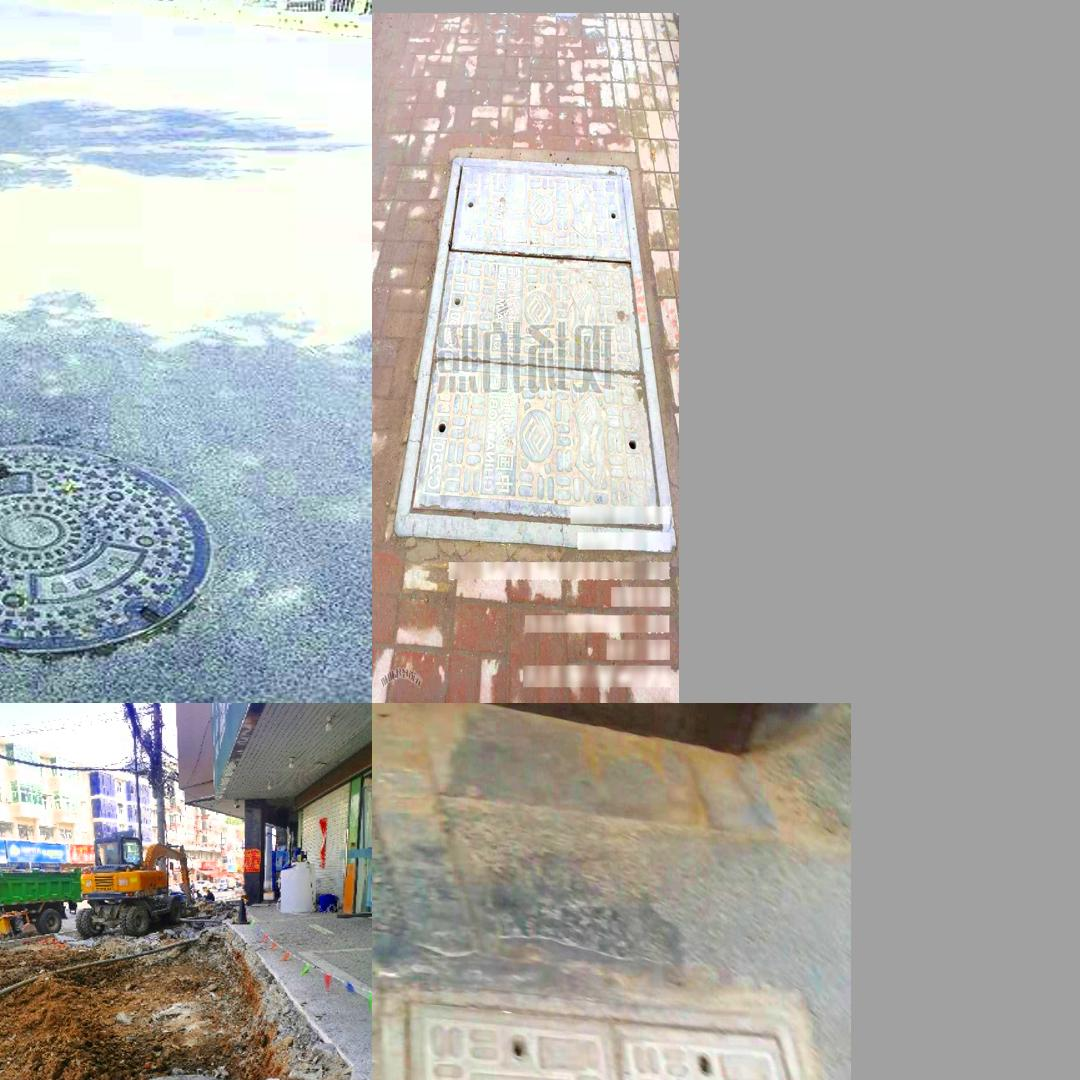good: (392, 154, 676, 551), (0, 419, 263, 655), (388, 996, 848, 1080), (93, 1073, 313, 1080)
